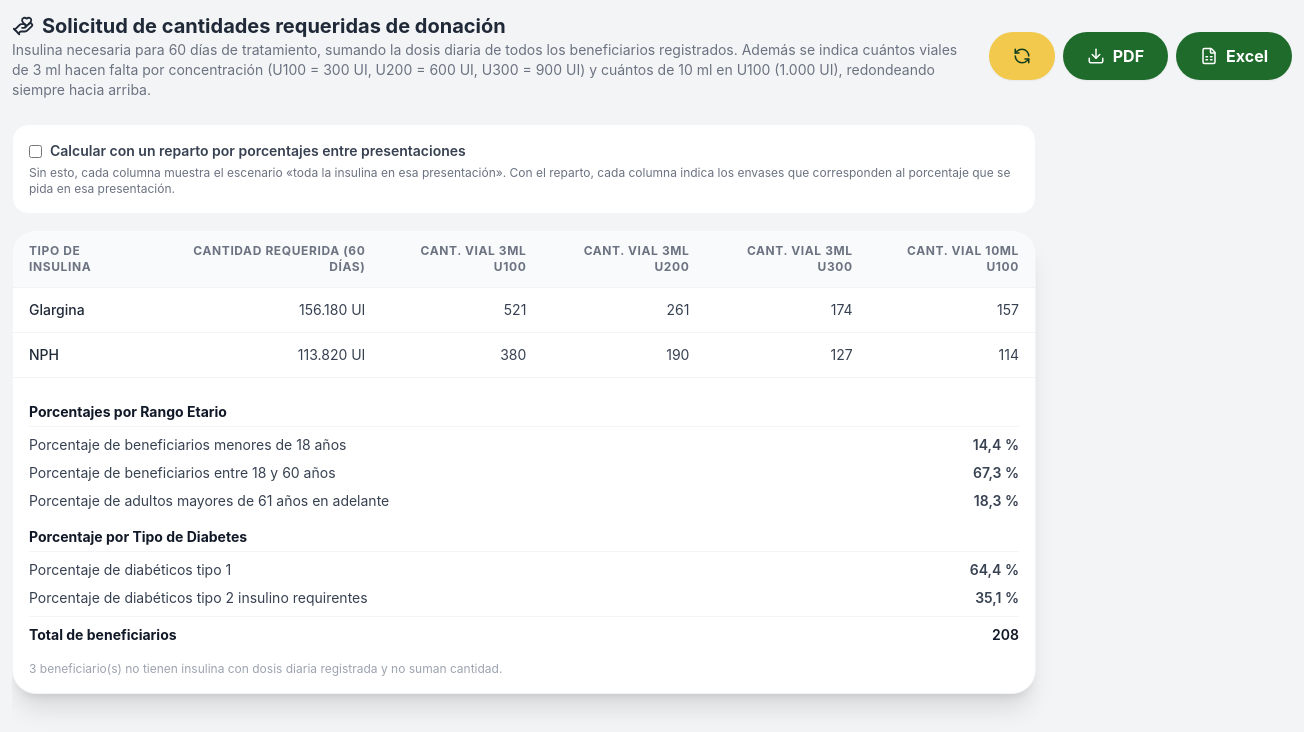
it: Solicitud de donación: reparto por porcentajes entre presentaciones › propone 30 % en 10 ml y el resto en partes iguales, y muestra los envases por presentación con su porcentaje
Expected: the text "Glargina" is shown, [13, 288, 155, 332]
Click the checkbox labelled "Calcular con un reparto por porcentajes entre presentaciones" at (36, 151), box [29, 144, 42, 158]
(page scrolled)
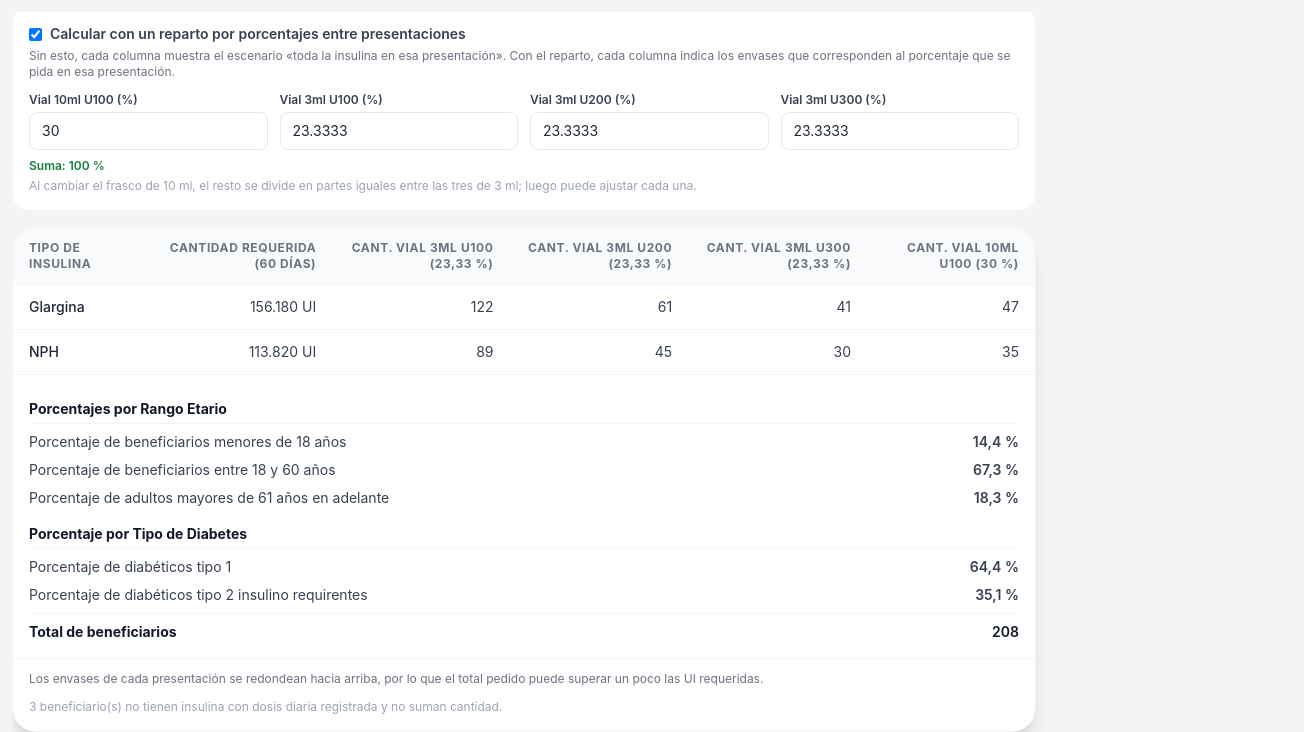
Expected: the number field labelled "Vial 10ml U100 (%)" holds "30", [29, 112, 268, 150]
Expected: the text "Suma: 100 %" is shown, [29, 158, 105, 173]
Expected: the column headings read "Tipo de insulina", "Cantidad requerida (60 días)", "Cant. Vial 3ml U100 (23,33 %)", "Cant. Vial 3ml U200 (23,33 %)", "Cant. Vial 3ml U300 (23,33 %)", "Cant. Vial 10ml U100 (30 %)", in this order, [13, 228, 141, 284]; [141, 228, 332, 284]; [332, 228, 509, 284]; [510, 228, 688, 284]; [688, 228, 867, 284]; [867, 228, 1035, 284]
